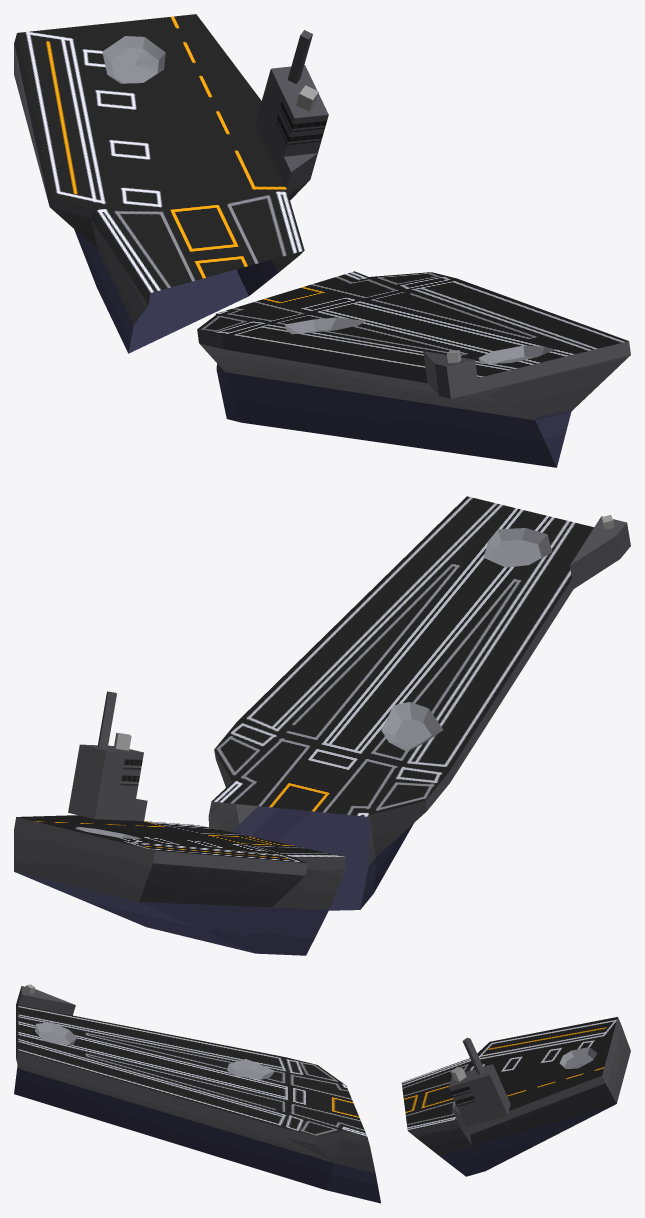
Rendered from aircraft_carrier.glb.
The picture shows the model from 3 angles, top to bottom: view 1: azimuth 30°, elevation 25°; view 2: azimuth 150°, elevation 25°; view 3: azimuth 270°, elevation 25°; orthographic projection. The views are drawn at different scales.
Parts seen in each view (by area): view 1: AircraftCarrier; view 2: AircraftCarrier; view 3: AircraftCarrier.
Part boxes in pixels (bbox=[...]): AircraftCarrier: bbox=[14, 14, 630, 467]; AircraftCarrier: bbox=[14, 496, 630, 955]; AircraftCarrier: bbox=[14, 984, 630, 1203].
Bounding box in the file's own units: 10.62 × 11.47 × 35.84.
Materials: 1 (1 with a texture image).
